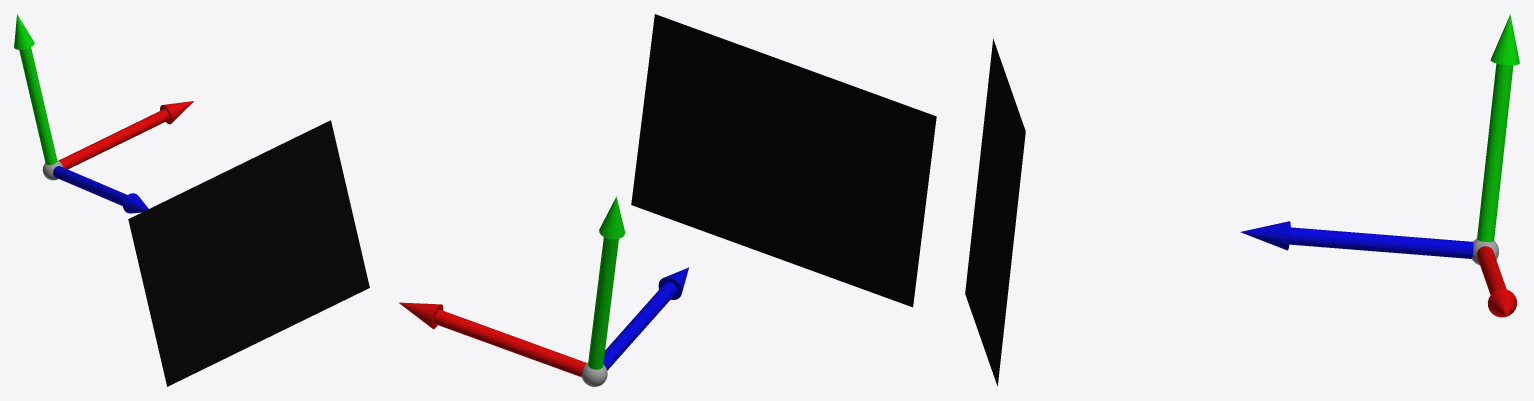
3 views of the same model, side by side, from view 1: azimuth 30°, elevation 25°; view 2: azimuth 150°, elevation 25°; view 3: azimuth 270°, elevation 25° (orthographic). The views are drawn at different scales.
Size of the model in its own units: 0.2046 by 0.1731 by 0.2809.
